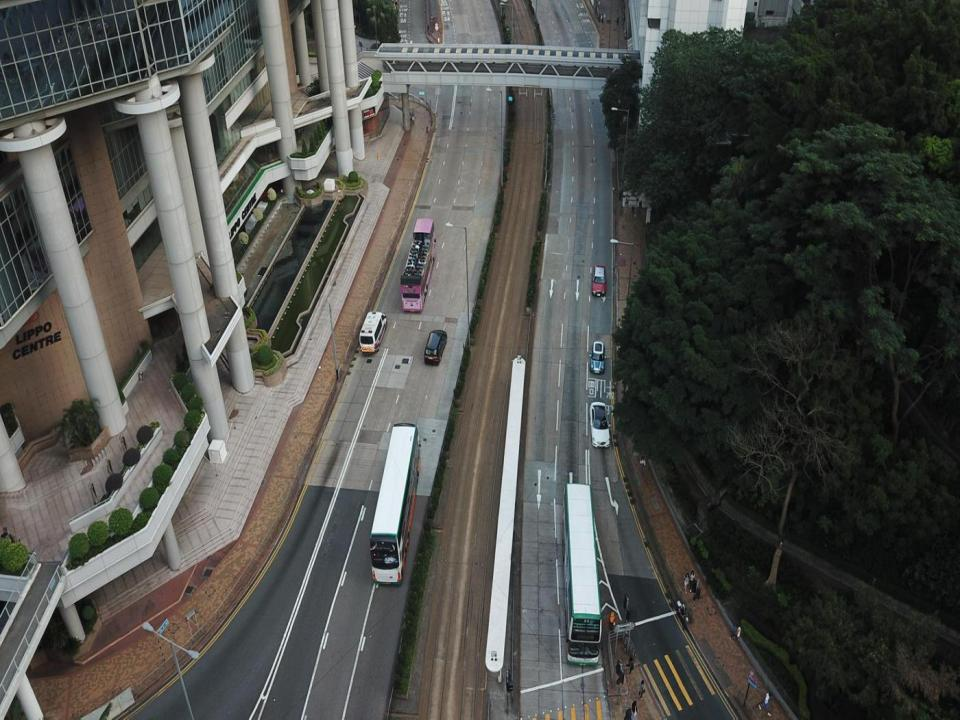bus: (370, 422, 420, 584), (562, 483, 601, 665), (401, 218, 436, 312)
car: (589, 402, 610, 445), (424, 330, 448, 364), (590, 340, 606, 374), (591, 264, 606, 297)
van: (359, 310, 386, 354)
